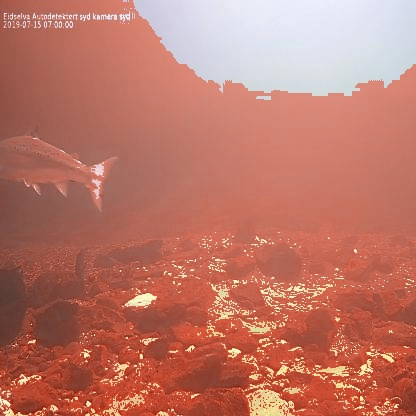salmon: (0, 120, 121, 216)
